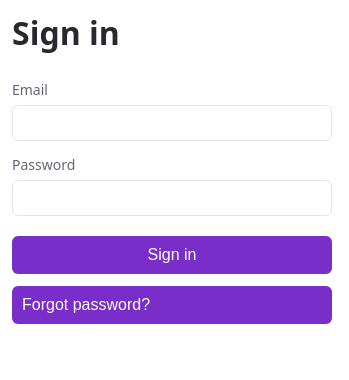
Scenario: LoginPage — Forgot password flow › shows the reset-request form when "Forgot password?" is clicked
Step 1. Click the button "Forgot password?" → (86, 305), box [12, 286, 332, 324]
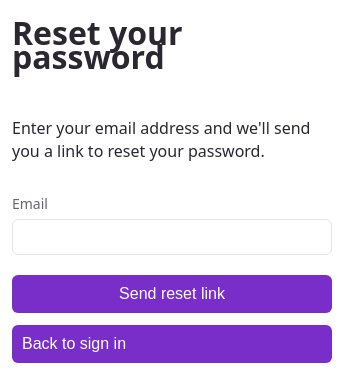
expect the field labelled "Email" is shown: met, box [12, 219, 332, 255]
expect the heading "Reset your password" is shown: met, box [12, 11, 183, 78]
expect the button "Send reset link" is shown: met, box [12, 275, 332, 313]
